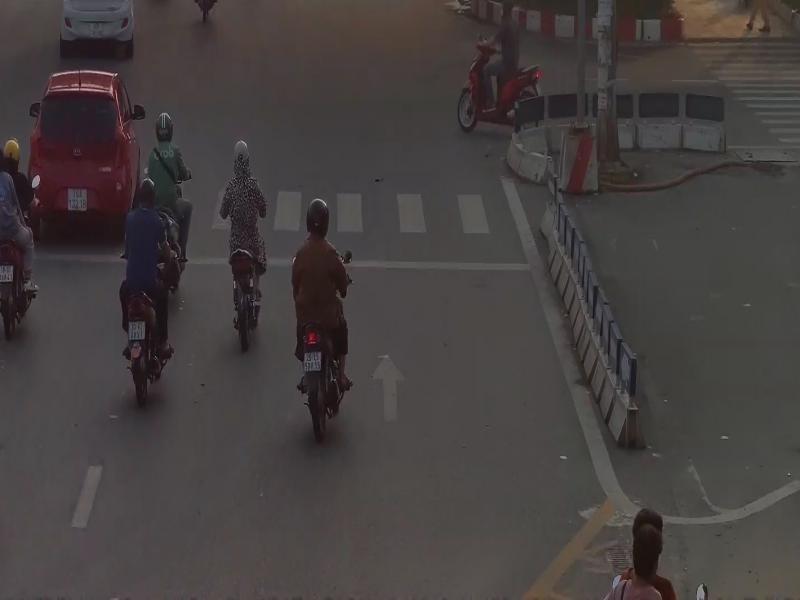helmet: (307, 200, 329, 232), (137, 178, 156, 207), (2, 136, 22, 163), (155, 113, 174, 140), (235, 138, 250, 167)
license_plate: (68, 189, 87, 212), (303, 352, 321, 371), (129, 320, 145, 340), (0, 262, 14, 282), (90, 23, 103, 37)
motorcyclist: (292, 201, 355, 441), (454, 4, 551, 159), (121, 174, 175, 422), (0, 134, 41, 347)
